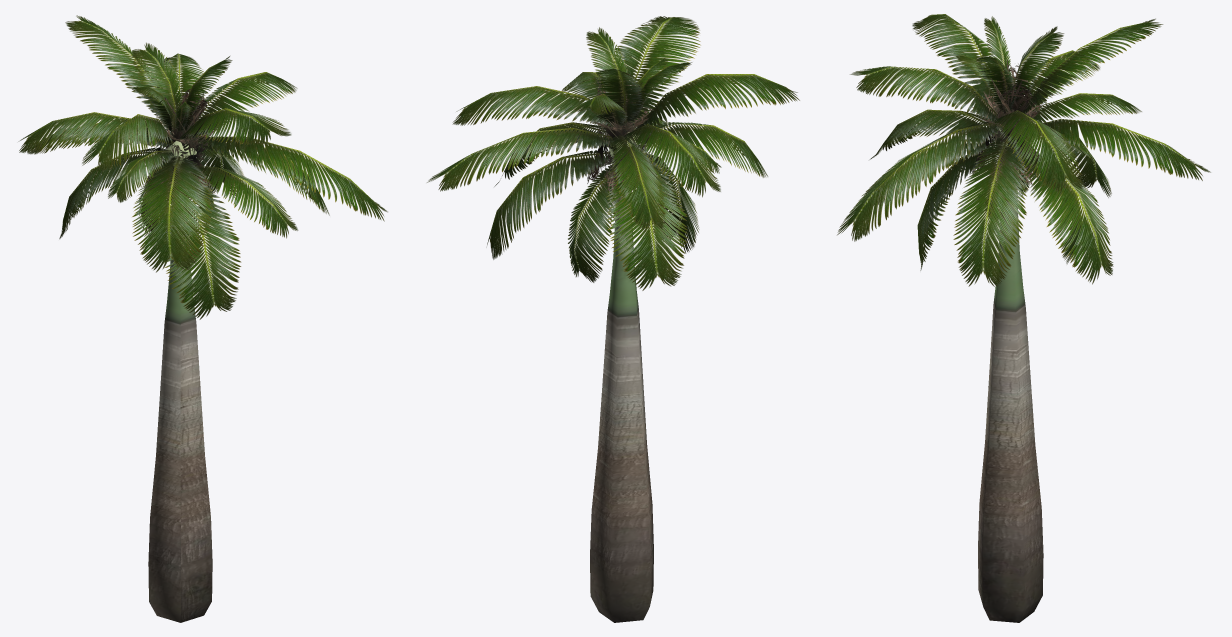
The model's file is Palm1_VAR2.glb.
3 renders of one model, left to right at view 1: azimuth 30°, elevation 25°; view 2: azimuth 150°, elevation 25°; view 3: azimuth 270°, elevation 25°, orthographic. The views are drawn at different scales.
Parts seen in each view (by area): view 1: Palm1_VAR2; view 2: Palm1_VAR2; view 3: Palm1_VAR2.
Part boxes in pixels (x1,y1,x2,y2): Palm1_VAR2: (18,15,387,622); Palm1_VAR2: (427,16,799,622); Palm1_VAR2: (837,14,1210,622).
Bounding box in the file's own units: 2.76 × 5.12 × 3.11.
Materials: 1 (1 with a texture image).
